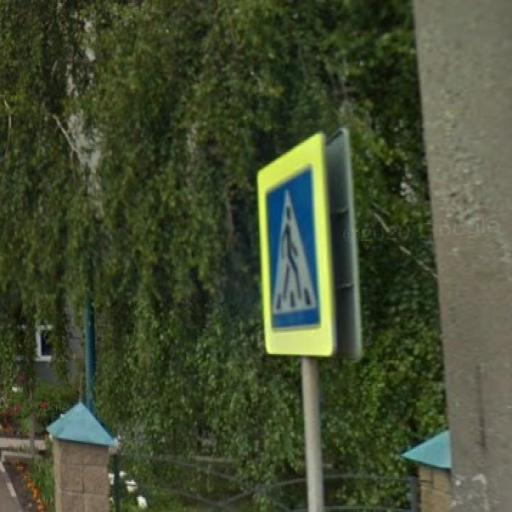traffic_sign: (256, 132, 337, 361)
